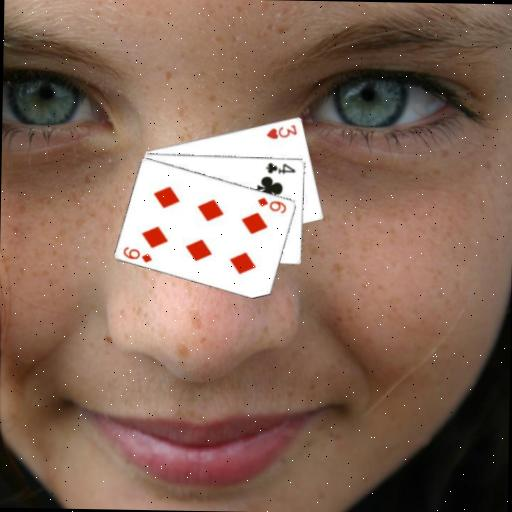3H: (263, 121, 299, 141)
4C: (264, 160, 298, 176)
6D: (255, 194, 289, 215), (120, 244, 154, 265)
